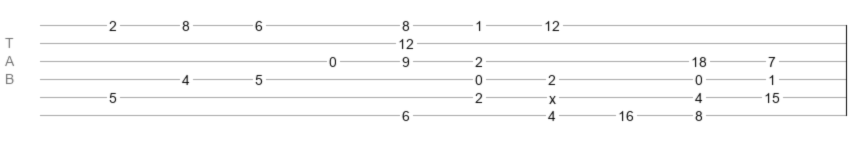0: (329, 54, 337, 64), (475, 72, 483, 82), (695, 72, 703, 82)
1: (475, 18, 483, 28), (768, 72, 776, 82)
12: (398, 36, 414, 46), (544, 18, 560, 28)
15: (764, 90, 780, 100)
16: (618, 108, 634, 118)
18: (691, 54, 707, 64)
2: (109, 18, 117, 28), (475, 90, 483, 100), (475, 54, 483, 64), (548, 72, 556, 82)
4: (182, 72, 190, 82), (548, 108, 556, 118), (695, 90, 703, 100)
5: (109, 90, 117, 100), (255, 72, 263, 82)
6: (255, 18, 263, 28), (402, 108, 410, 118)
7: (768, 54, 776, 64)
8: (182, 18, 190, 28), (402, 18, 410, 28), (695, 108, 703, 118)
9: (402, 54, 410, 64)
x: (549, 91, 556, 99)
